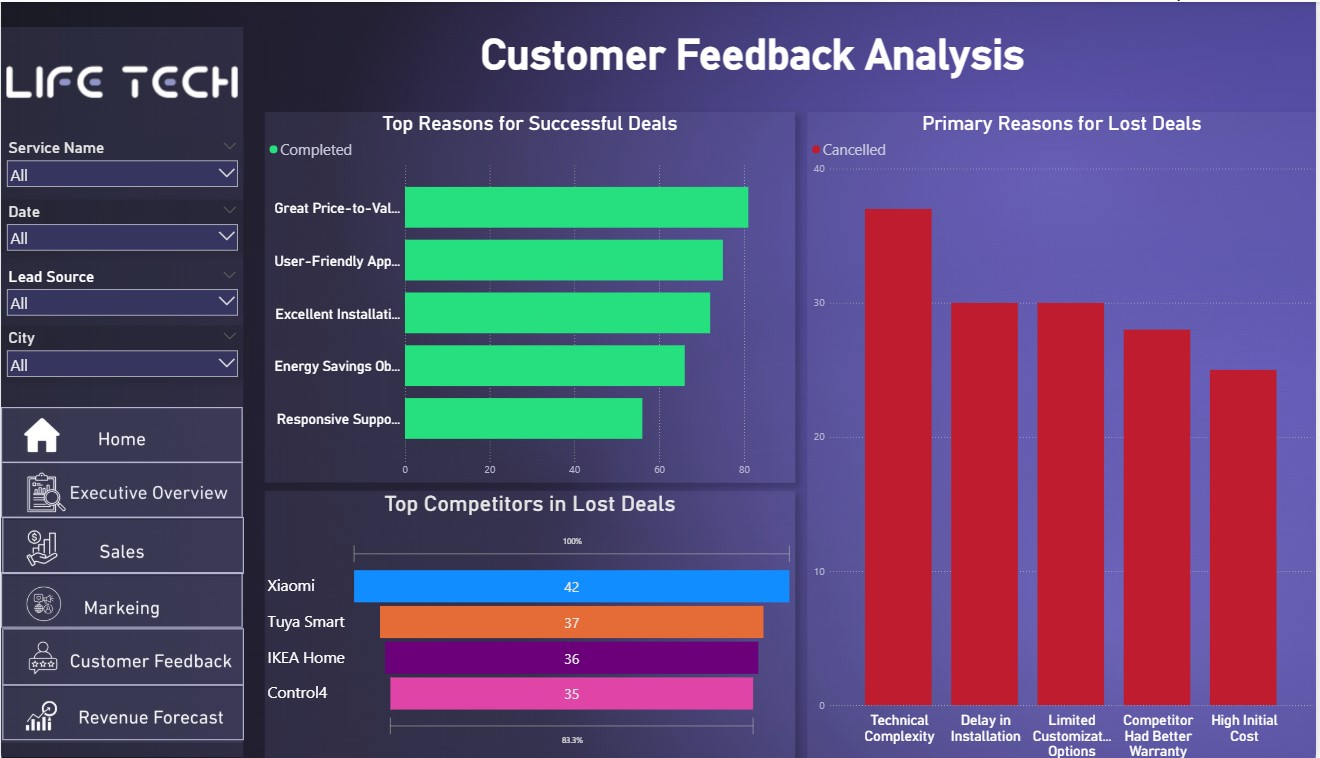

This screenshot's page, from the dashboard's own definition file:
{"tool":"powerbi","page":{"name":"Customer-Feedback-Analysis","canvas":[2250,1250],"ordinal":5},"visuals":[{"type":"clusteredColumnChart","title":"Primary Reasons for Lost Deals","fields":{"Category":["Feedback.Primary_Reason"],"Y":["CountNonNull(Feedback.OrderID)"],"Series":["Feedback.Deal_Status"]},"box":[1379.3,144.3,870.7,1115.2],"z":0},{"type":"funnel","title":"Top Competitors in Lost Deals","fields":{"Category":["Feedback.Competitor_Mentioned"],"Y":["CountNonNull(Feedback.OrderID)"]},"box":[450,792.4,907.3,467.1],"z":1000},{"type":"clusteredBarChart","title":"Top Reasons for Successful Deals","fields":{"Category":["Feedback.Primary_Reason"],"Y":["CountNonNull(Feedback.OrderID)"],"Series":["Feedback.Deal_Status"]},"box":[450,144.3,907.3,633.4],"z":2000},{"type":"textbox","box":[794.8,0,980.7,95.4],"z":3000},{"type":"shape","box":[0,0,414.7,1248.3],"z":4000},{"type":"slicer","fields":{"Values":["DimCity.City"]},"box":[0,510.1,415,89.9],"z":5000},{"type":"slicer","fields":{"Values":["Calender.Year","Calender.Quarter","Calender.Month"]},"box":[0,294.4,415,89.9],"z":6000},{"type":"slicer","fields":{"Values":["DimServiceName.ServiceName"]},"box":[0,186.5,415,89.9],"z":7000},{"type":"slicer","fields":{"Values":["DimLeadSource.LeadSource"]},"box":[0,406.1,414.7,89.8],"z":8000},{"type":"image","box":[0,650.4,413.7,95.7],"z":9000},{"type":"image","box":[0,746.1,413.7,95.7],"z":10000},{"type":"image","box":[0,841.7,413.7,95.7],"z":11000},{"type":"image","box":[0,937.4,413.7,95.7],"z":12000},{"type":"image","box":[0,1033,413.7,95.7],"z":13000},{"type":"image","box":[0,1128.7,413.7,95.7],"z":14000},{"type":"image","box":[9.6,0,397,186.5],"z":15000},{"type":"actionButton","box":[0,650.5,413.3,95.4],"z":16000},{"type":"actionButton","box":[0,743.5,413.3,95.4],"z":17000},{"type":"actionButton","box":[0,931.8,413.3,95.4],"z":18000},{"type":"actionButton","box":[2.4,1027.2,413.3,97.8],"z":19000},{"type":"actionButton","box":[2.4,1125,413.3,95.4],"z":20000},{"type":"actionButton","box":[2.4,838.9,413.3,97.8],"z":21000}]}

Visuals, with their boxes on the page's 2250x1250 design canvas (x1, y1, x2, y2). These are canvas units, not pixel positions in the 1320x758 screenshot, which may show the page scaled, cropped or inside an application window:
"Primary Reasons for Lost Deals" clusteredColumnChart: rect(1379, 144, 2250, 1260)
"Top Competitors in Lost Deals" funnel: rect(450, 792, 1357, 1260)
"Top Reasons for Successful Deals" clusteredBarChart: rect(450, 144, 1357, 778)
textbox: rect(795, 0, 1776, 95)
shape: rect(0, 0, 415, 1248)
slicer - DimCity.City: rect(0, 510, 415, 600)
slicer - Calender.Year x Calender.Quarter: rect(0, 294, 415, 384)
slicer - DimServiceName.ServiceName: rect(0, 186, 415, 276)
slicer - DimLeadSource.LeadSource: rect(0, 406, 415, 496)
image: rect(0, 650, 414, 746)
image: rect(0, 746, 414, 842)
image: rect(0, 842, 414, 937)
image: rect(0, 937, 414, 1033)
image: rect(0, 1033, 414, 1129)
image: rect(0, 1129, 414, 1224)
image: rect(10, 0, 407, 186)
actionButton: rect(0, 650, 413, 746)
actionButton: rect(0, 744, 413, 839)
actionButton: rect(0, 932, 413, 1027)
actionButton: rect(2, 1027, 416, 1125)
actionButton: rect(2, 1125, 416, 1220)
actionButton: rect(2, 839, 416, 937)
